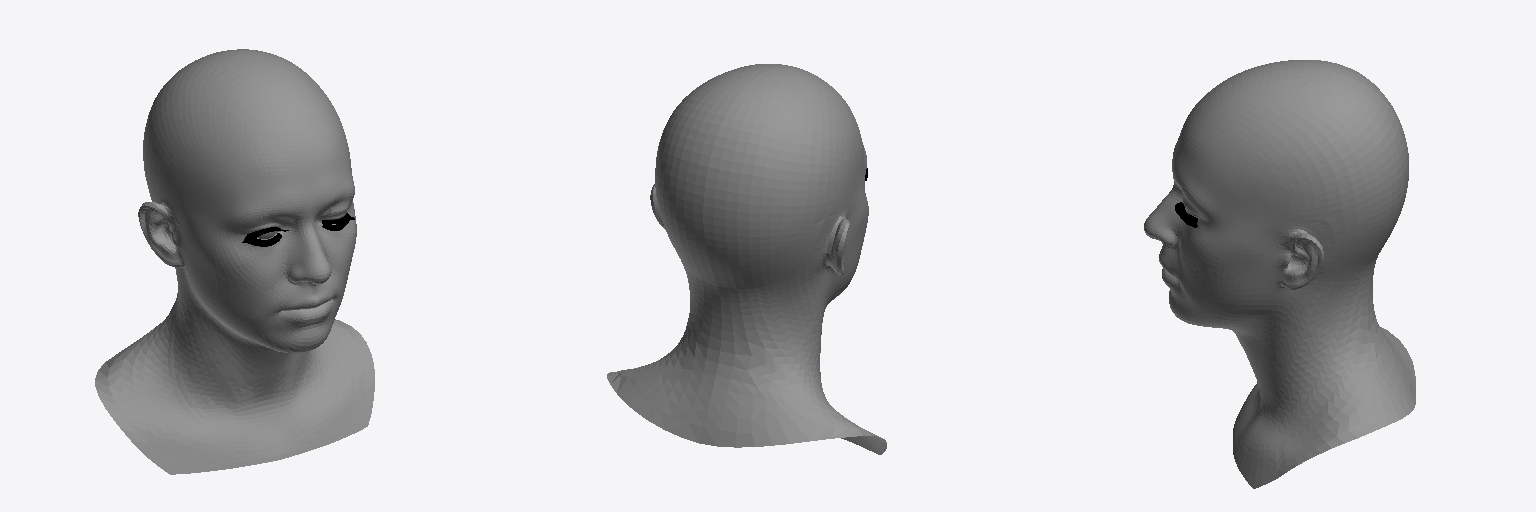
Rendered from eyeLookDown_L.obj.
The picture shows the model from 3 angles: view 1: azimuth 30°, elevation 25°; view 2: azimuth 150°, elevation 25°; view 3: azimuth 270°, elevation 25°; orthographic projection.
Size of the model in its own units: 24.83 by 33.81 by 22.32.